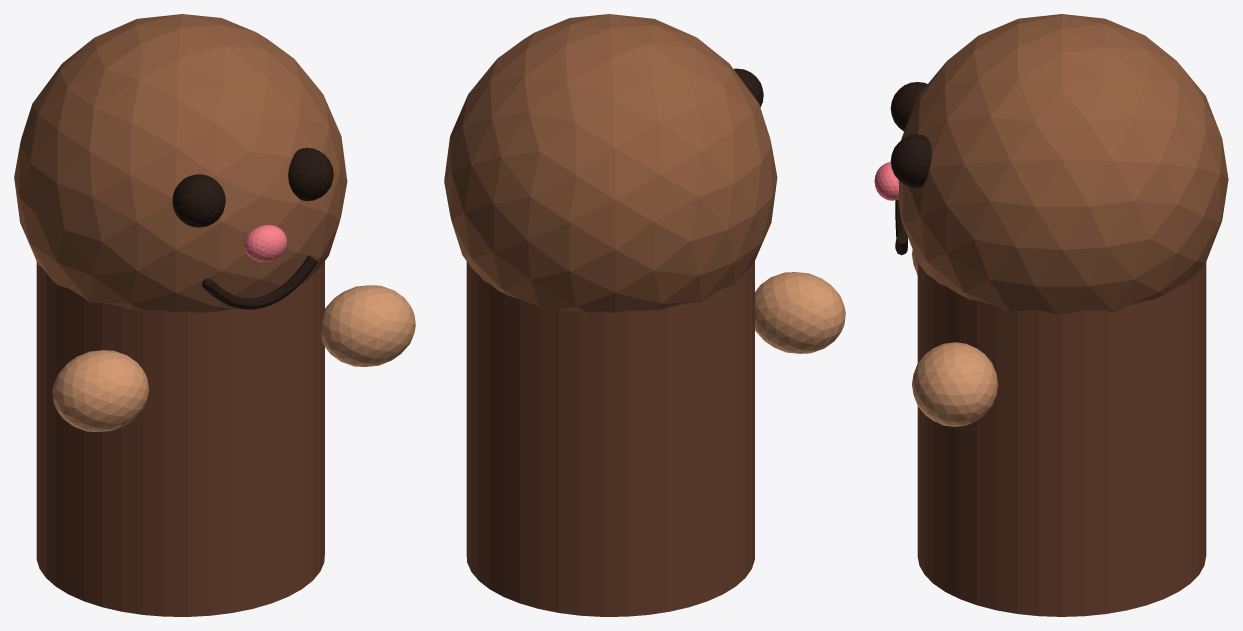
File: SimpleMole.dae
3 renders of one model, left to right at view 1: azimuth 30°, elevation 25°; view 2: azimuth 150°, elevation 25°; view 3: azimuth 270°, elevation 25°, orthographic.
Parts seen in each view (by area): view 1: 01_BrownCylinderBody, 02_RoundHead, 03_L_SmallHand, 03_R_SmallHand, 04_L_BlackEye, 04_R_BlackEye, 05_PinkNose; view 2: 01_BrownCylinderBody, 02_RoundHead, 03_L_SmallHand; view 3: 01_BrownCylinderBody, 02_RoundHead, 03_R_SmallHand, 04_R_BlackEye, 04_L_BlackEye, 05_PinkNose.
Boxes of the visible parts, bbox=[...] form: 01_BrownCylinderBody: bbox=[36, 261, 324, 616]; 02_RoundHead: bbox=[14, 14, 347, 312]; 03_L_SmallHand: bbox=[52, 350, 148, 431]; 03_R_SmallHand: bbox=[321, 285, 415, 366]; 04_L_BlackEye: bbox=[172, 174, 225, 227]; 04_R_BlackEye: bbox=[288, 148, 333, 201]; 05_PinkNose: bbox=[244, 224, 286, 261]; 01_BrownCylinderBody: bbox=[466, 261, 754, 616]; 02_RoundHead: bbox=[444, 14, 777, 312]; 03_L_SmallHand: bbox=[755, 272, 845, 353]; 01_BrownCylinderBody: bbox=[917, 262, 1206, 616]; 02_RoundHead: bbox=[898, 14, 1228, 314]; 03_R_SmallHand: bbox=[912, 342, 998, 426]; 04_R_BlackEye: bbox=[890, 134, 931, 187]; 04_L_BlackEye: bbox=[890, 82, 927, 131]; 05_PinkNose: bbox=[874, 162, 898, 200].
Bounding box in the file's own units: 0.8056 × 1.15 × 0.6991.
